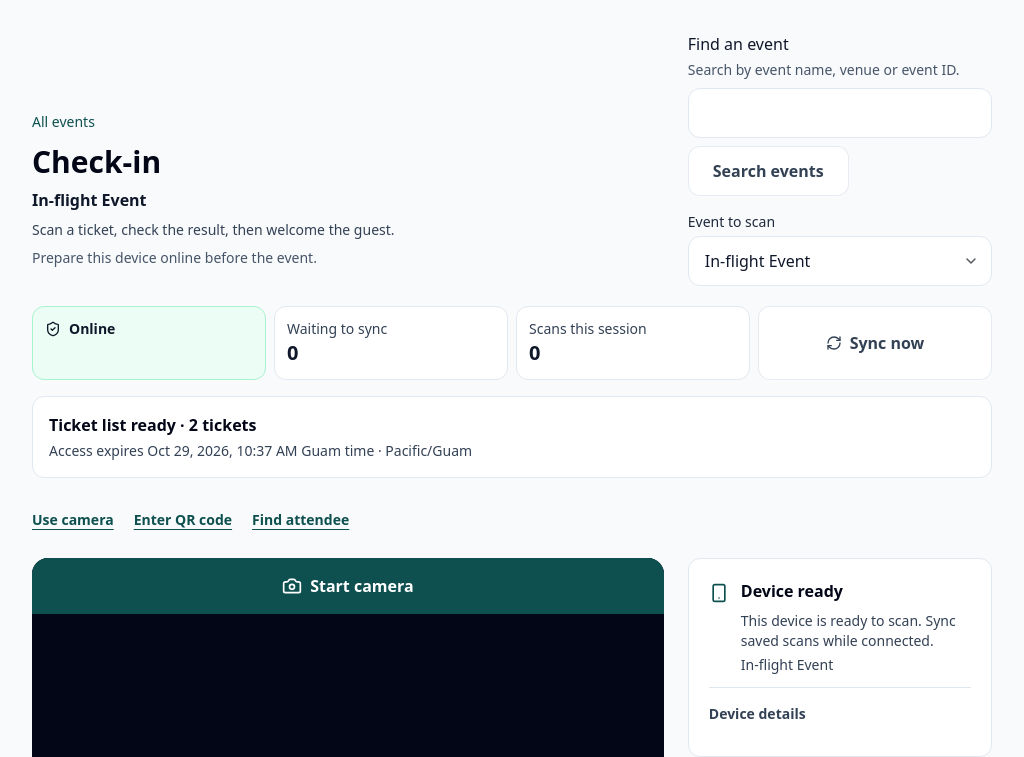
Test: scanner recovery and camera ownership › retains the accepted ACK when an in-flight sync drains a new scan before its count refresh returns
Click the heading "Device details": (757,714) [709, 704, 806, 723]
(page scrolled)
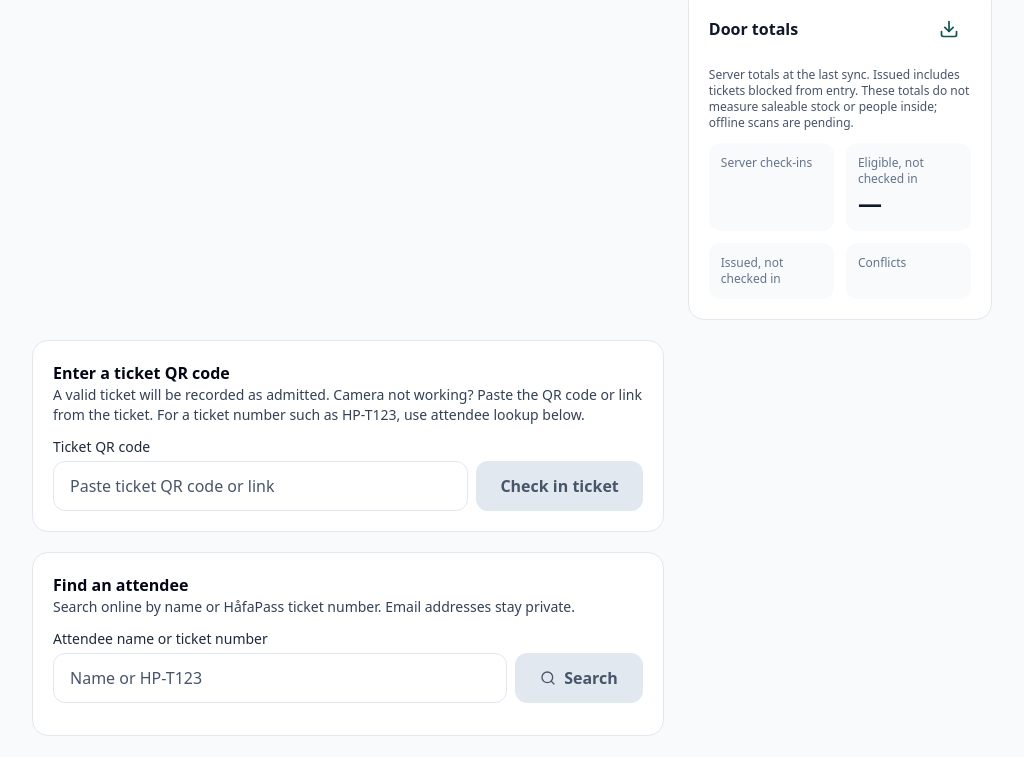
In the field labelled "Ticket QR code": (261,486) [53, 461, 468, 511], type "in-flight-501"
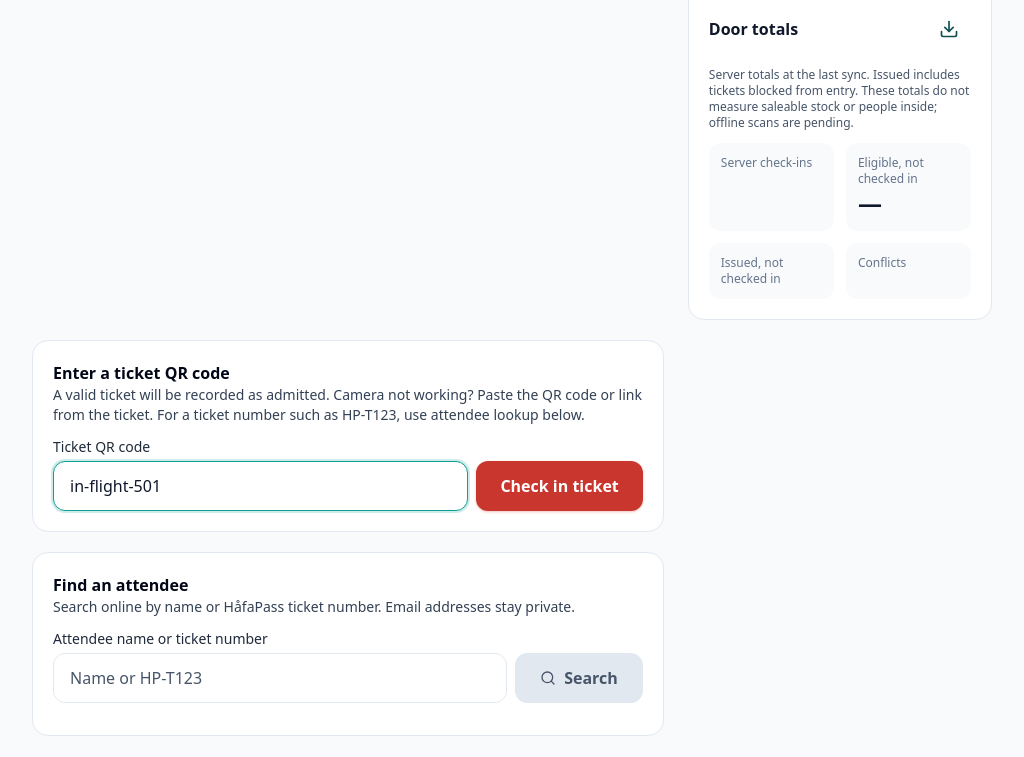
Click the button "Check in ticket": (560,486) [476, 461, 643, 511]
(page scrolled)
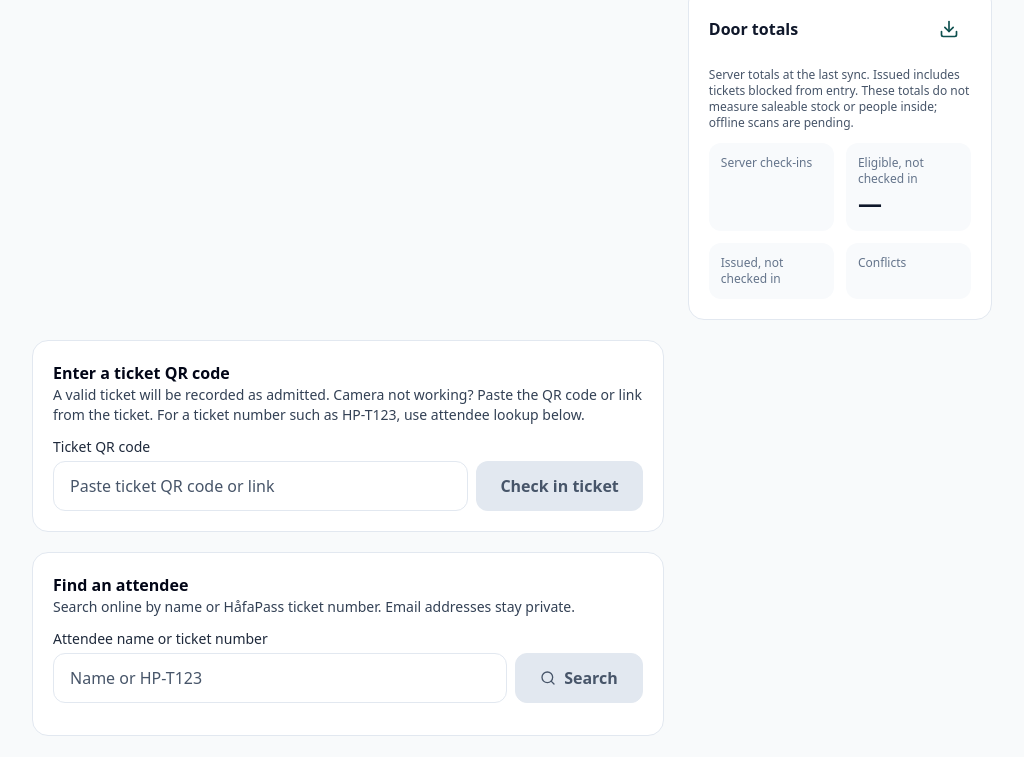
In the field labelled "Ticket QR code": (261,486) [53, 461, 468, 511], type "in-flight-502"
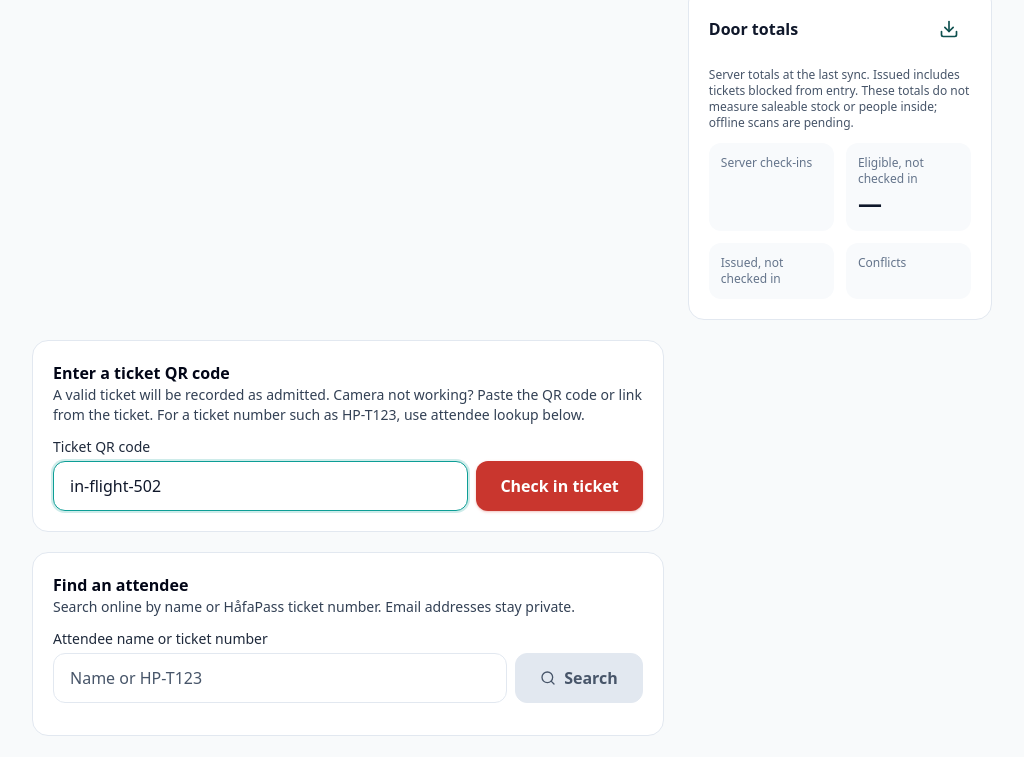
Click the button "Check in ticket": (560,486) [476, 461, 643, 511]
(page scrolled)
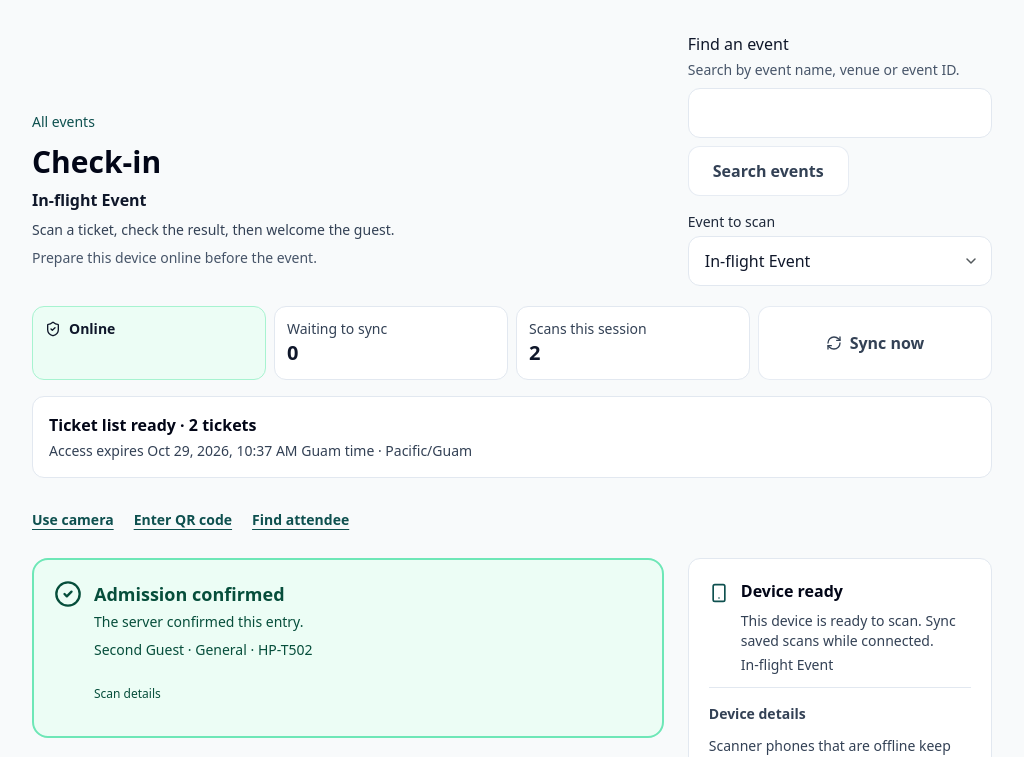
Now the button "Sync now" is enabled, box [758, 306, 992, 380]
Now the text "Admission confirmed" is shown, box [94, 580, 312, 608]
Now the text "Second Guest · General · HP-T502" is shown, box [94, 640, 312, 660]
